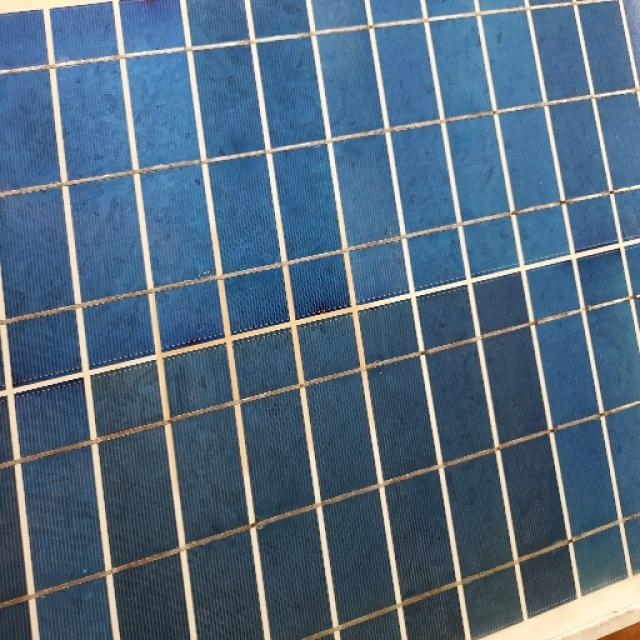Clean: (3, 31, 640, 640)
